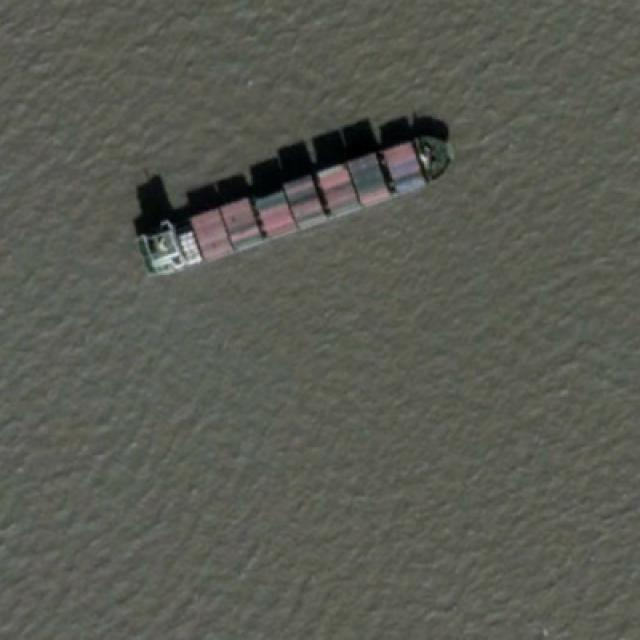boat: (136, 128, 454, 276)
